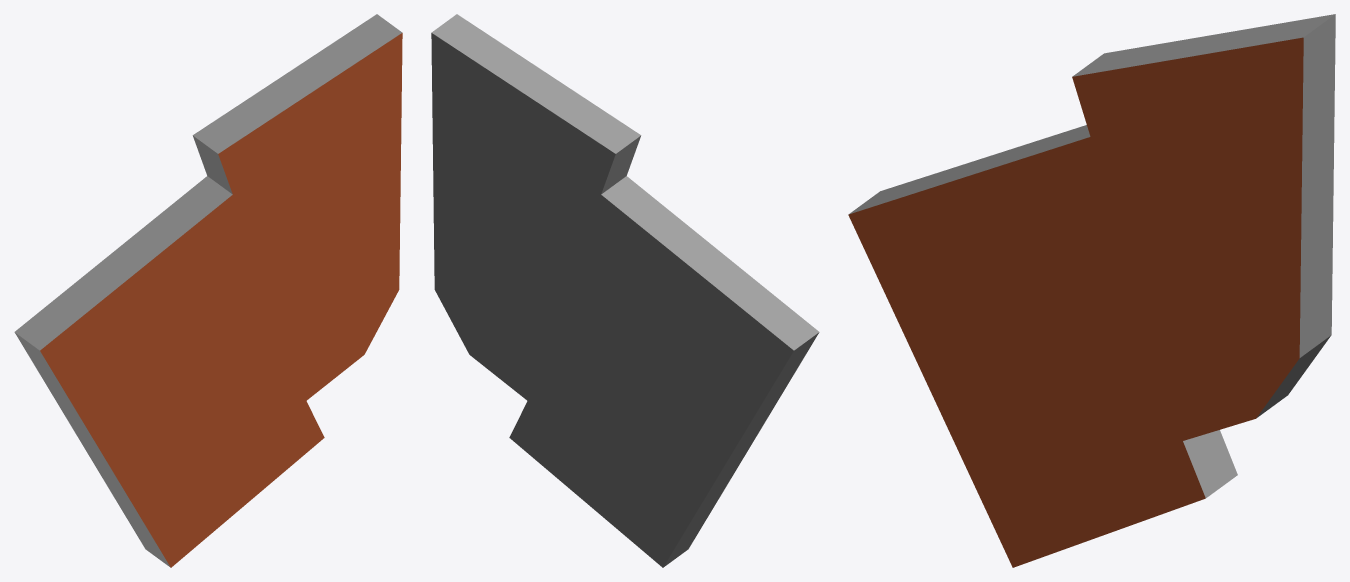
The model's file is construction_1143_assumed_A_Casa_h6m.obj.
3 renders of one model, left to right at view 1: azimuth 30°, elevation 25°; view 2: azimuth 150°, elevation 25°; view 3: azimuth 330°, elevation 25°, orthographic. The views are drawn at different scales.
Parts seen in each view (by area): view 1: construction_1143_assumed_A_Casa; view 2: construction_1143_assumed_A_Casa; view 3: construction_1143_assumed_A_Casa.
Boxes of the visible parts, x1=… form: construction_1143_assumed_A_Casa: x1=14, y1=14, x2=402, y2=567; construction_1143_assumed_A_Casa: x1=431, y1=14, x2=819, y2=567; construction_1143_assumed_A_Casa: x1=848, y1=14, x2=1335, y2=567.
Size of the model in its own units: 49.21 by 62.09 by 6.
